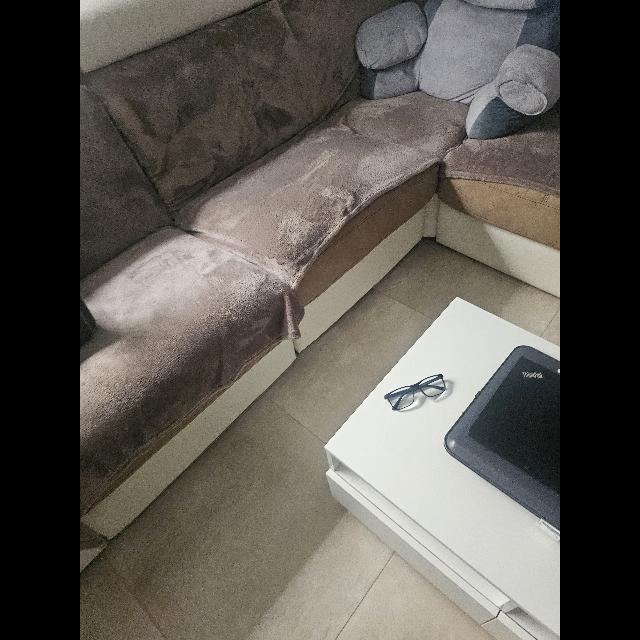glasses: (384, 374, 446, 410)
